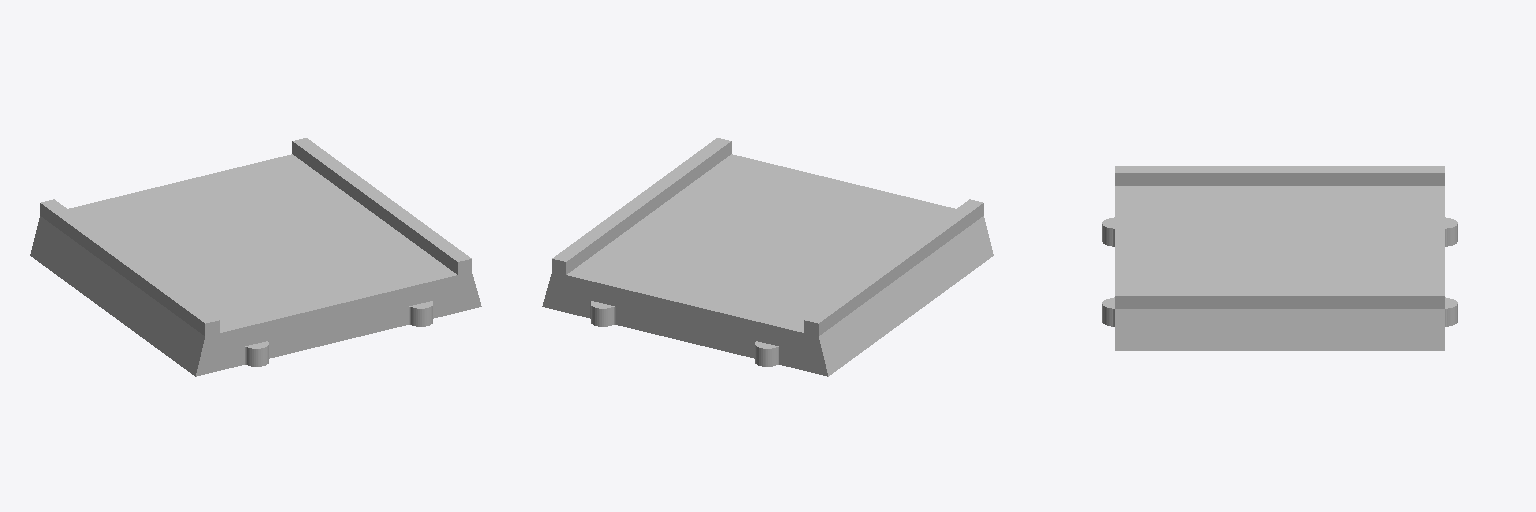
File: Small_base_Collider.obj
3 renders of one model, left to right at view 1: azimuth 30°, elevation 25°; view 2: azimuth 150°, elevation 25°; view 3: azimuth 270°, elevation 25°, orthographic.
Parts seen in each view (by area): view 1: Mesh1_small_base_Cube_002_small_base_Cube_002_auv_smallBaseTemp; view 2: Mesh1_small_base_Cube_002_small_base_Cube_002_auv_smallBaseTemp; view 3: Mesh1_small_base_Cube_002_small_base_Cube_002_auv_smallBaseTemp.
Part boxes in pixels (left/top/right/bottom): Mesh1_small_base_Cube_002_small_base_Cube_002_auv_smallBaseTemp: left=30, top=138, right=481, bottom=376; Mesh1_small_base_Cube_002_small_base_Cube_002_auv_smallBaseTemp: left=542, top=138, right=993, bottom=376; Mesh1_small_base_Cube_002_small_base_Cube_002_auv_smallBaseTemp: left=1102, top=166, right=1457, bottom=350.
Size of the model in its own units: 2.31 by 0.3905 by 2.49.